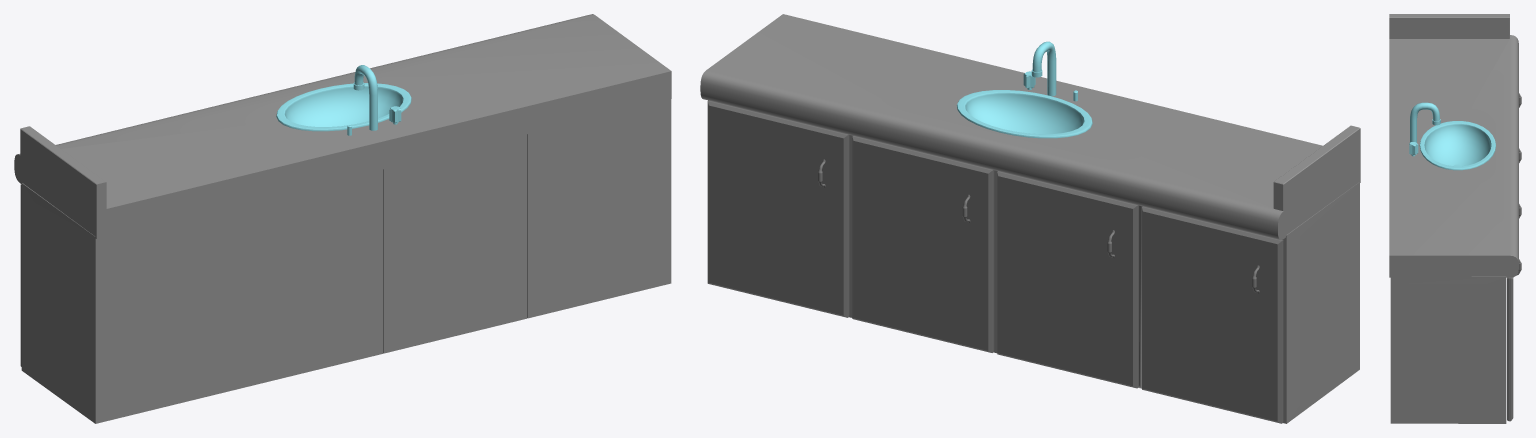
The model's file is BathroomSink.FBX.
3 renders of one model, left to right at view 1: azimuth 30°, elevation 25°; view 2: azimuth 150°, elevation 25°; view 3: azimuth 270°, elevation 25°, orthographic. The views are drawn at different scales.
Visible parts, largest first — view 1: BathroomCupboard_L_Box_LP, BathroomCupboardBox_LP, BathroomSink_LP; view 2: BathroomCupboardBox_LP, BathroomCupboard_L_Door_01_LP, BathroomCupboard_L_Door_02_LP, BathroomCupboard_L_Door_04_LP, BathroomCupboard_L_Door_03_LP, BathroomCupboard_L_Box_LP, BathroomSink_LP; view 3: BathroomCupboardBox_LP, BathroomCupboard_L_Box_LP, BathroomSink_LP, BathroomCupboard_L_Door_01_LP.
Part boxes in pixels (bbox=[...]): BathroomCupboard_L_Box_LP: bbox=[21, 99, 671, 423]; BathroomCupboardBox_LP: bbox=[14, 14, 671, 238]; BathroomSink_LP: bbox=[276, 65, 411, 131]; BathroomCupboardBox_LP: bbox=[700, 14, 1360, 239]; BathroomCupboard_L_Door_01_LP: bbox=[707, 100, 849, 317]; BathroomCupboard_L_Door_02_LP: bbox=[852, 136, 994, 352]; BathroomCupboard_L_Door_04_LP: bbox=[1142, 206, 1283, 423]; BathroomCupboard_L_Door_03_LP: bbox=[997, 171, 1138, 388]; BathroomCupboard_L_Box_LP: bbox=[708, 100, 1359, 423]; BathroomSink_LP: bbox=[956, 41, 1092, 138]; BathroomCupboardBox_LP: bbox=[1389, 14, 1518, 277]; BathroomCupboard_L_Box_LP: bbox=[1390, 276, 1506, 423]; BathroomSink_LP: bbox=[1410, 102, 1495, 170]; BathroomCupboard_L_Door_01_LP: bbox=[1507, 259, 1521, 421].
Bounding box in the file's own units: 226 × 101 × 56.93.
